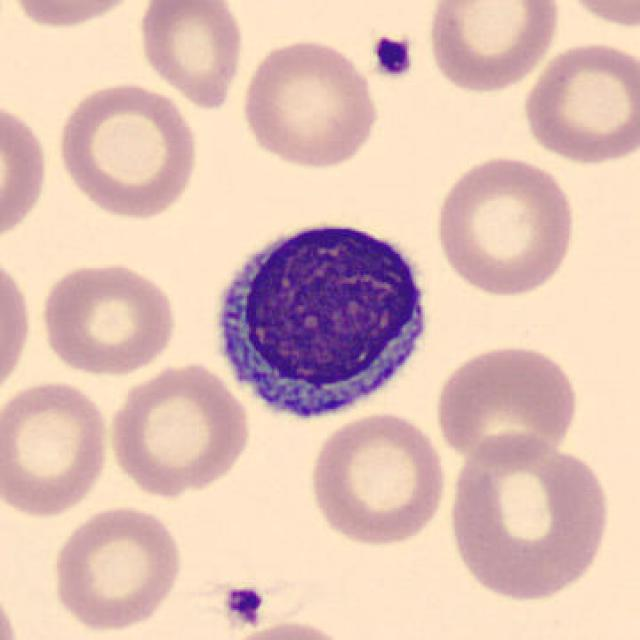Lymphocyte: (199, 204, 443, 432)
Platelets: (370, 32, 416, 81), (222, 582, 267, 626)
RBC: (443, 430, 615, 605), (430, 150, 580, 300), (51, 78, 201, 222), (103, 360, 253, 499), (304, 409, 450, 548), (236, 35, 382, 171), (432, 340, 581, 469), (46, 502, 185, 634), (36, 259, 182, 379), (0, 377, 114, 520), (519, 39, 638, 167), (422, 0, 564, 95), (133, 0, 247, 111), (0, 95, 52, 247), (0, 252, 34, 400), (4, 0, 151, 32), (212, 617, 364, 640), (553, 0, 640, 32), (0, 576, 25, 640)
